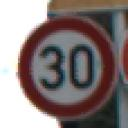speed_limit_30: (14, 14, 120, 122)
